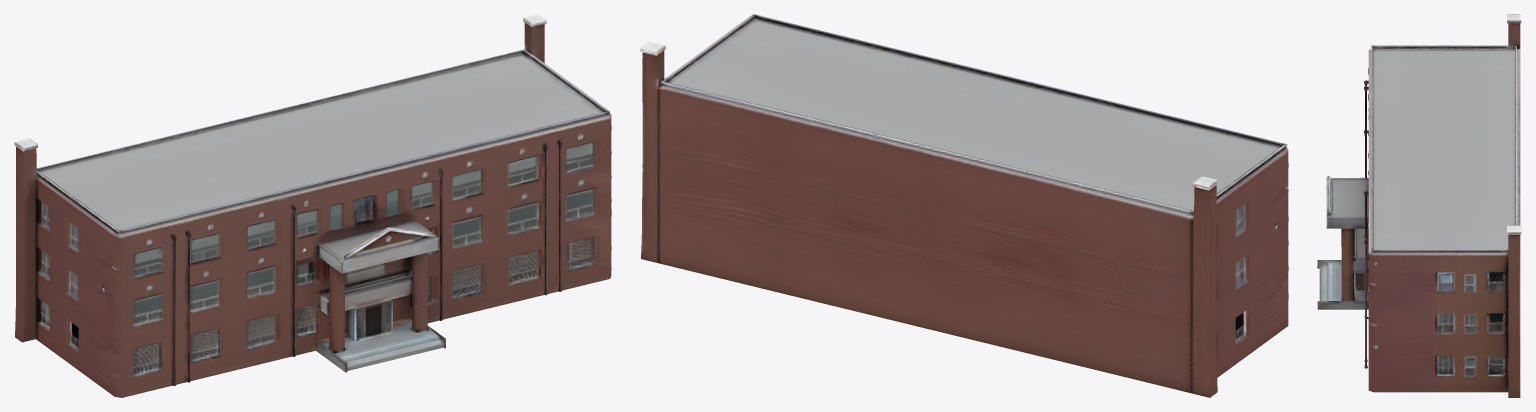
Rendered from base_basic_shaded.fbx.
3 views of the same model, side by side, from view 1: azimuth 30°, elevation 25°; view 2: azimuth 150°, elevation 25°; view 3: azimuth 270°, elevation 25° (orthographic). The views are drawn at different scales.
Visible parts, largest first — view 1: model; view 2: model; view 3: model.
Part boxes in pixels (<box>): model: <box>14,14,611,397</box>; model: <box>640,14,1288,397</box>; model: <box>1317,14,1521,397</box>.
Bounding box in the file's own units: 185 × 65.73 × 73.15.
